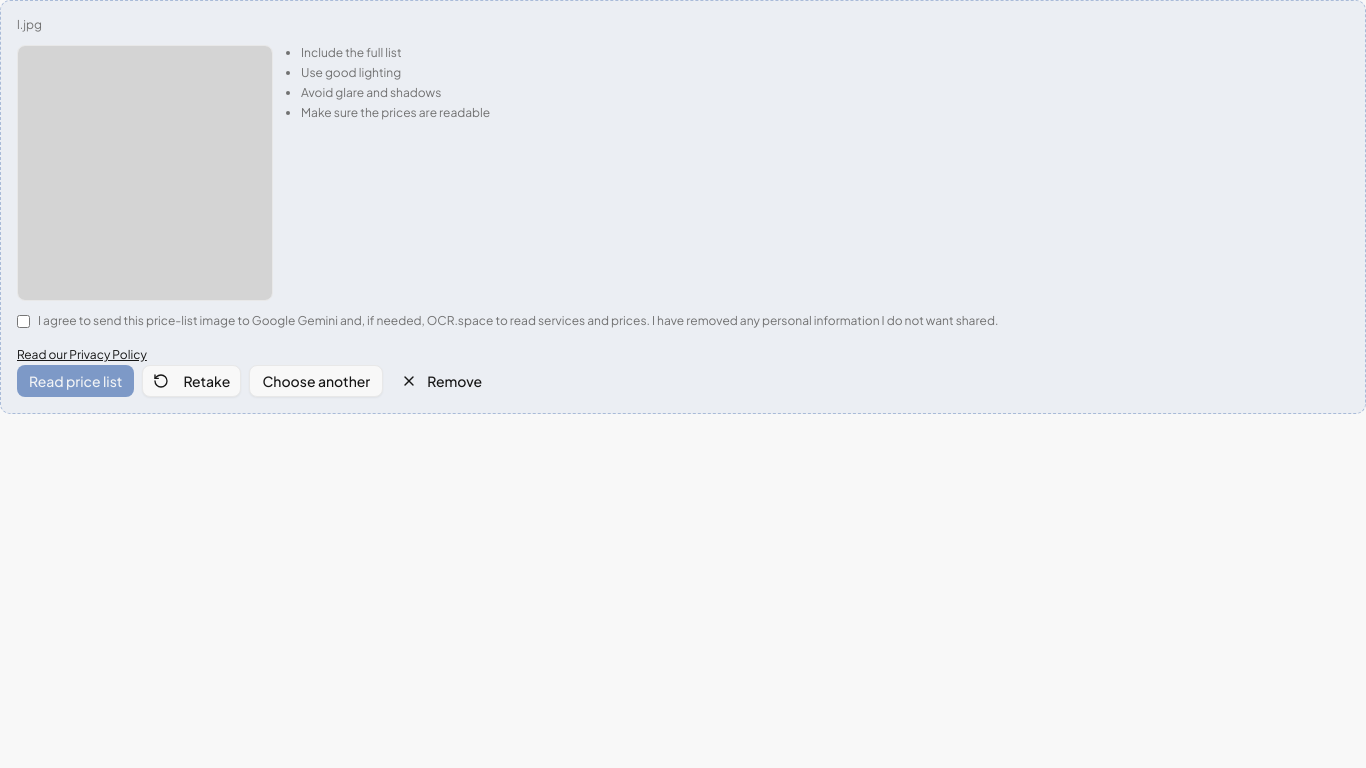
it: dashboard: existing owner imports with duplicate handling › Update existing / Create / Ignore and per-kg go to the server confirm, then reload
Earlier steps of the test are not shown.
Later steps or results of the test are not shown.
Click the checkbox labelled "agree to send this price-list image": {"x": 24, "y": 322} [17,315,30,328]
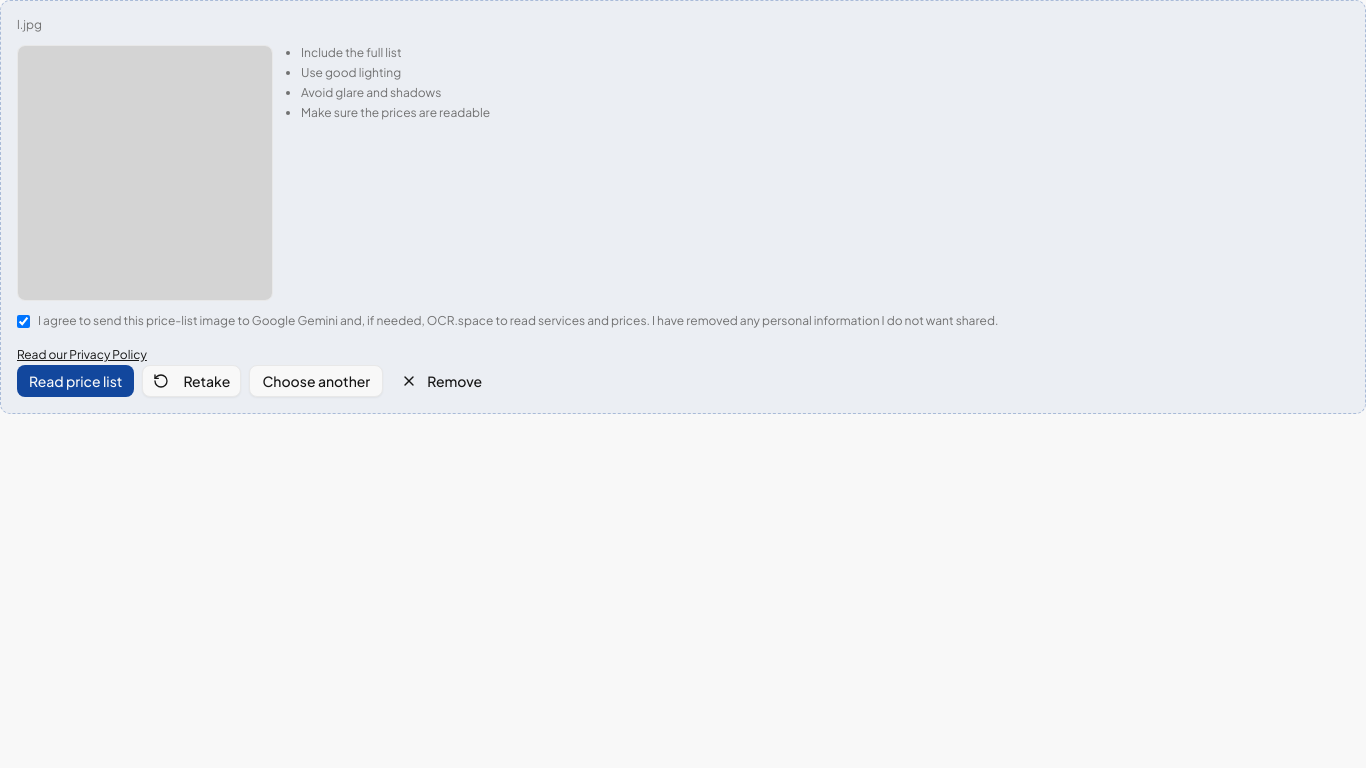
Click the button "Read price list": {"x": 76, "y": 381} [17,365,134,397]
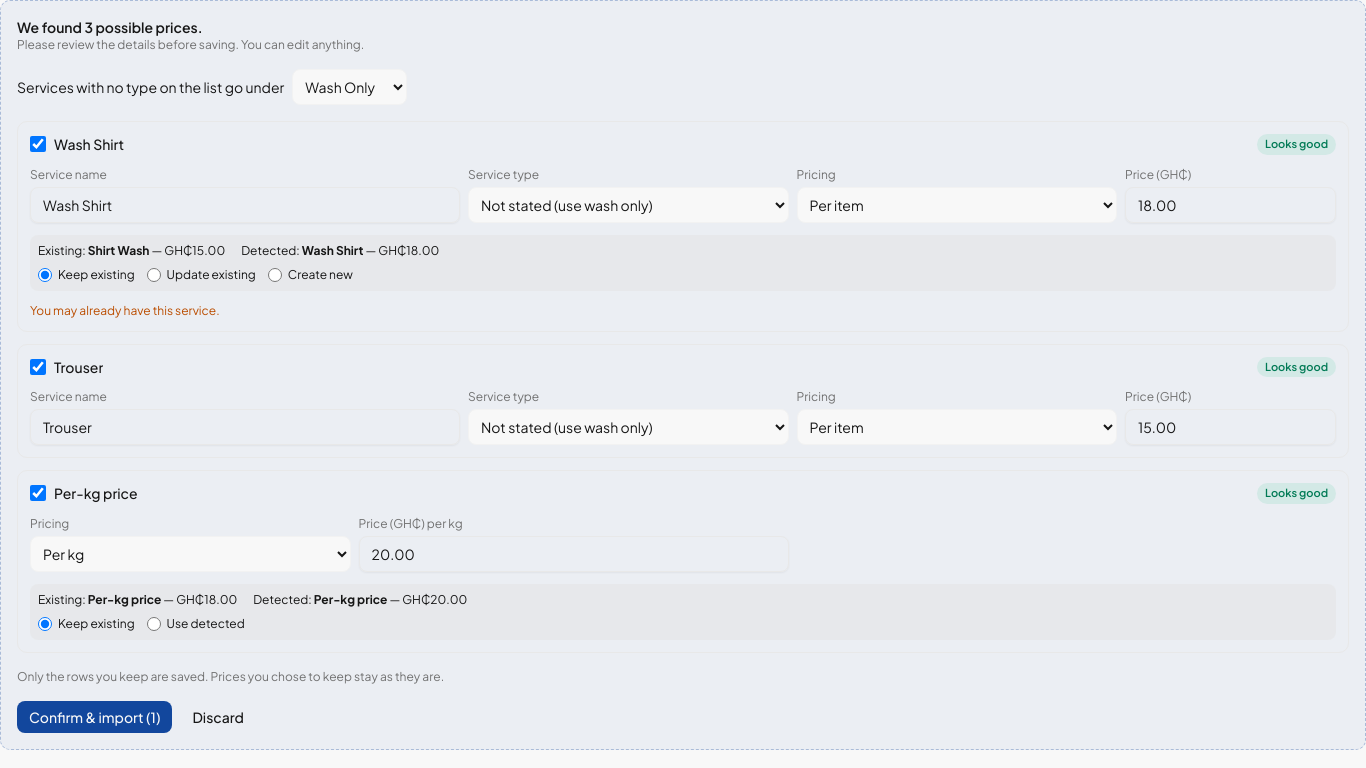
Expected: the text "We found 3 possible prices." is shown, [17,18,202,36]
Expected: the text "Existing: Shirt Wash — GH₵15.00" is shown 2 times, [38,242,225,258]; [38,592,237,608]
Click the radio button labelled "Update existing": {"x": 154, "y": 274} [147,268,161,282]
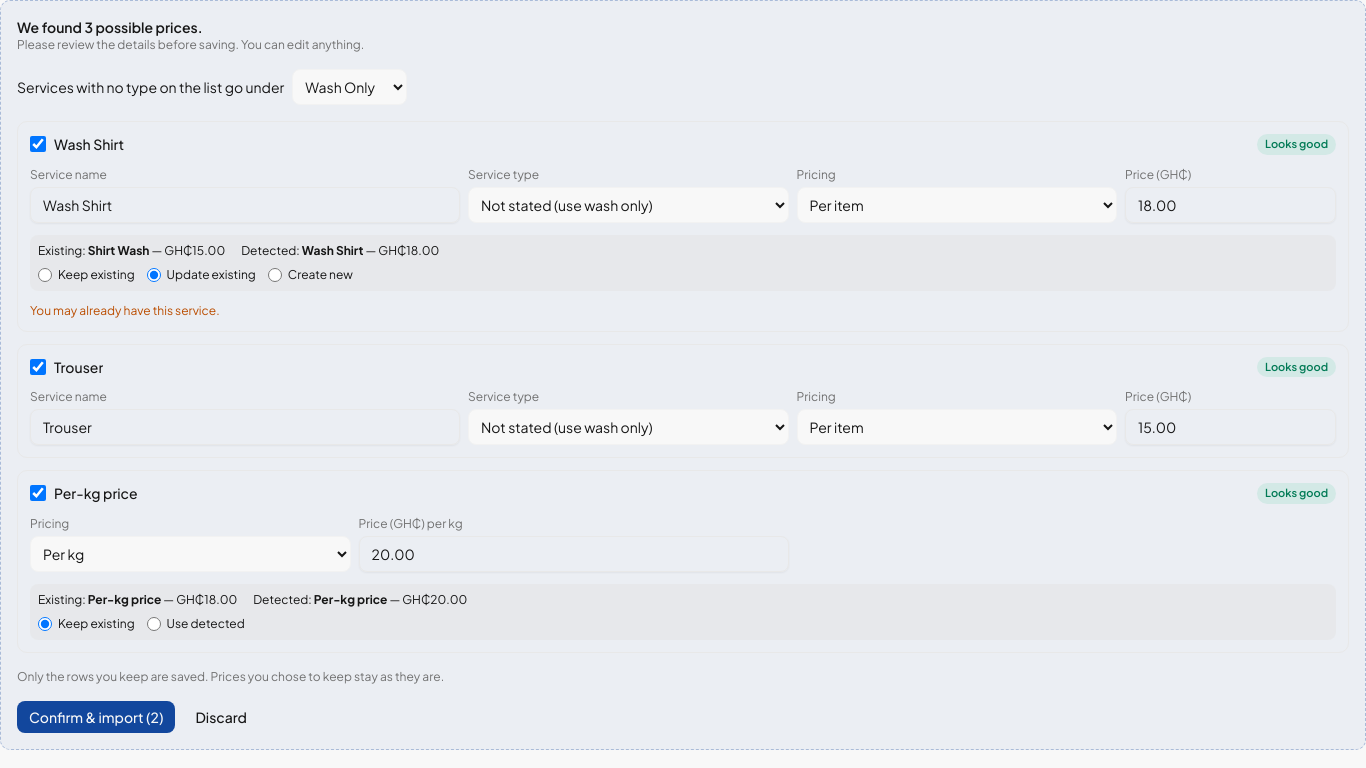
Click the radio button labelled "Use detected": {"x": 154, "y": 624} [147,616,161,630]
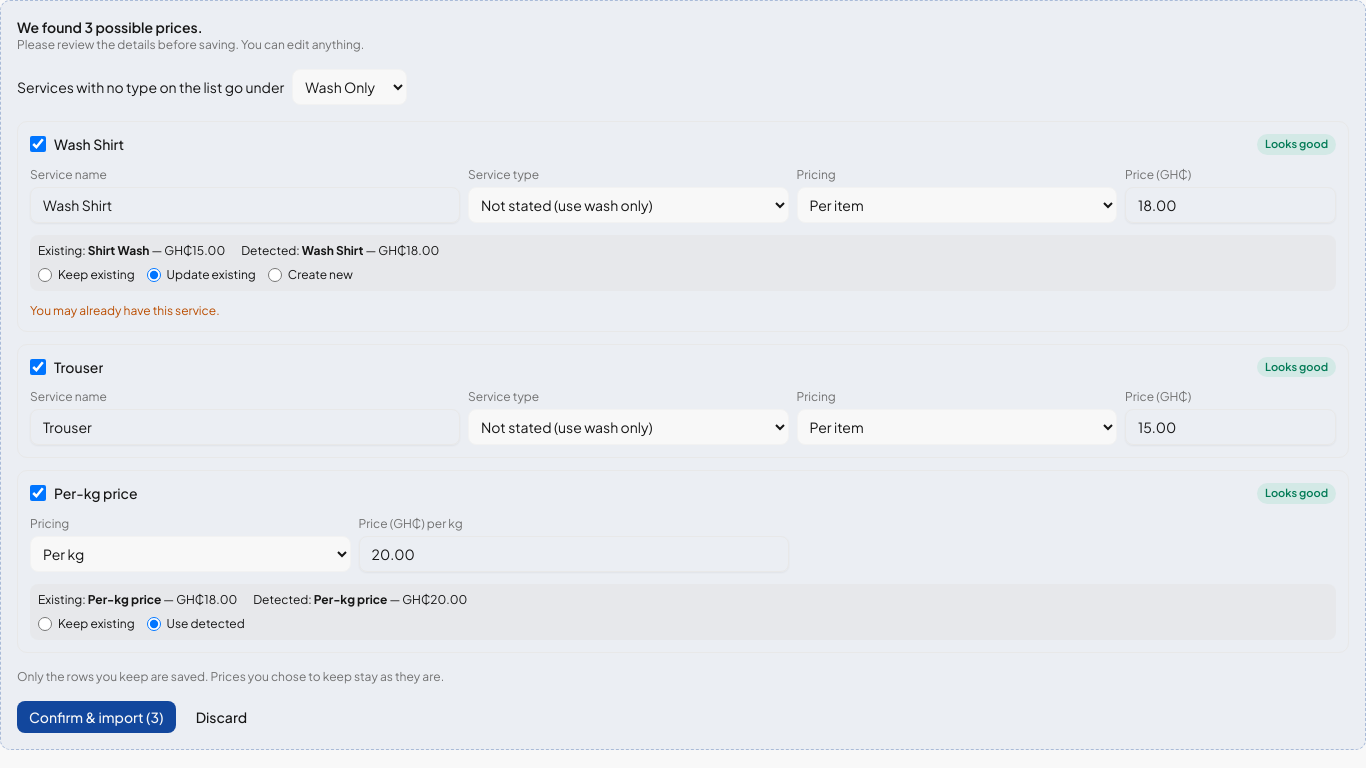
Click the button "Confirm & import (3)": {"x": 96, "y": 716} [17,700,176,732]
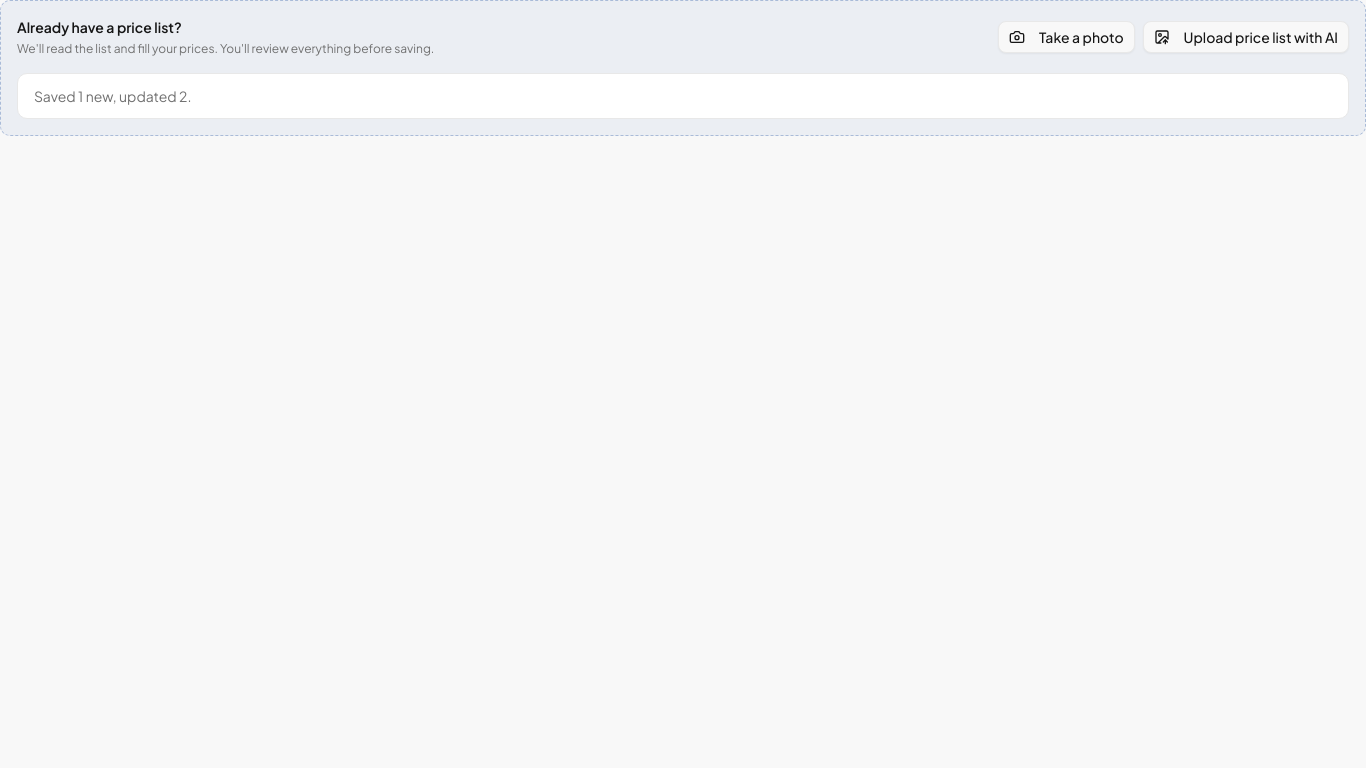
Expected: the text "Saved 1 new, updated 2." is shown, [34,87,192,105]
